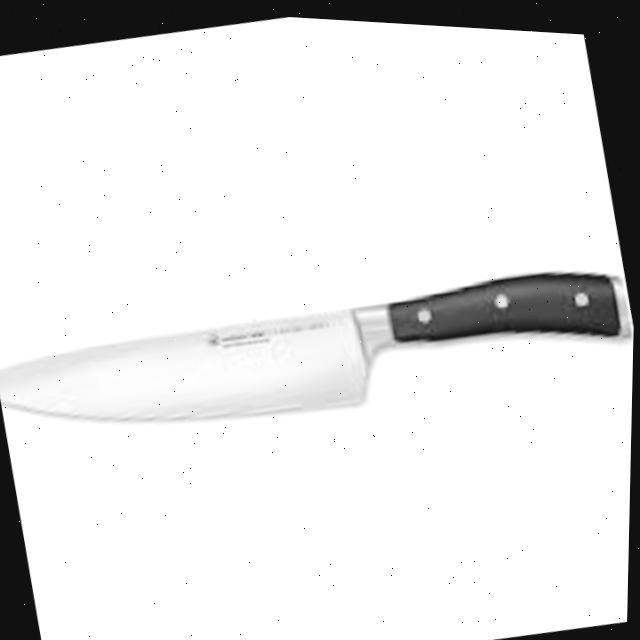Knife: (0, 223, 636, 480)
